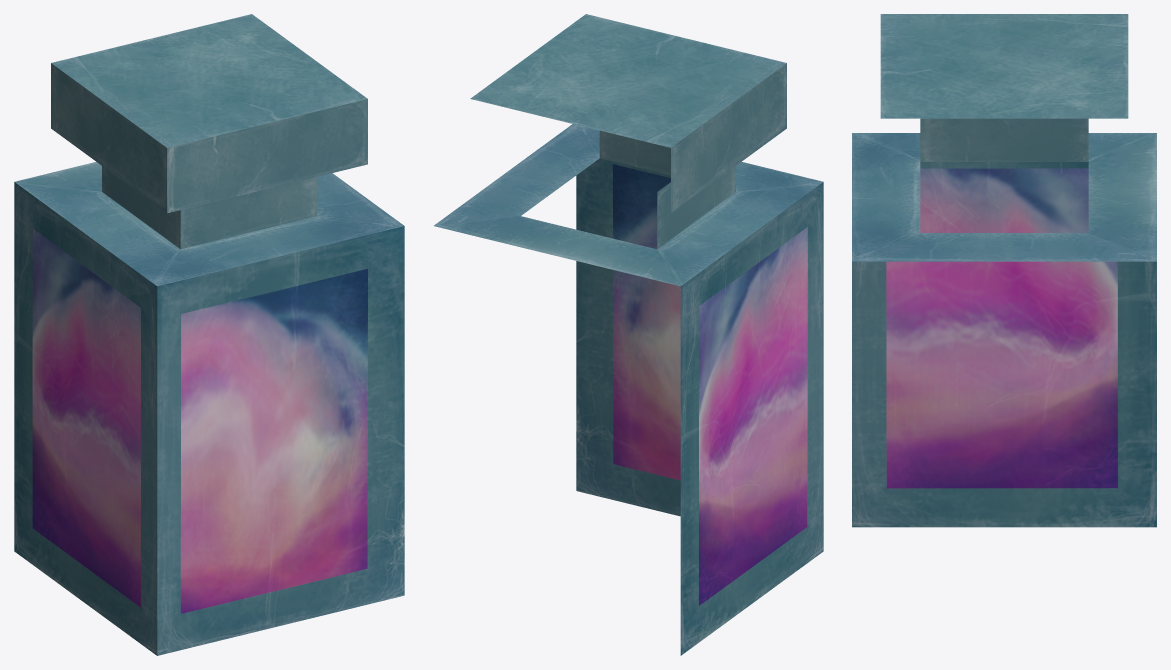
File: Potion.fbx
3 renders of one model, left to right at view 1: azimuth 30°, elevation 25°; view 2: azimuth 150°, elevation 25°; view 3: azimuth 270°, elevation 25°, orthographic. The views are drawn at different scales.
Visible parts, largest first — view 1: pCube649; view 2: pCube649; view 3: pCube649.
Boxes of the visible parts, bbox=[...] form: pCube649: bbox=[14, 14, 404, 655]; pCube649: bbox=[434, 14, 823, 655]; pCube649: bbox=[852, 14, 1156, 527].
Size of the model in its own units: 0.5506 by 1.05 by 0.5506.
